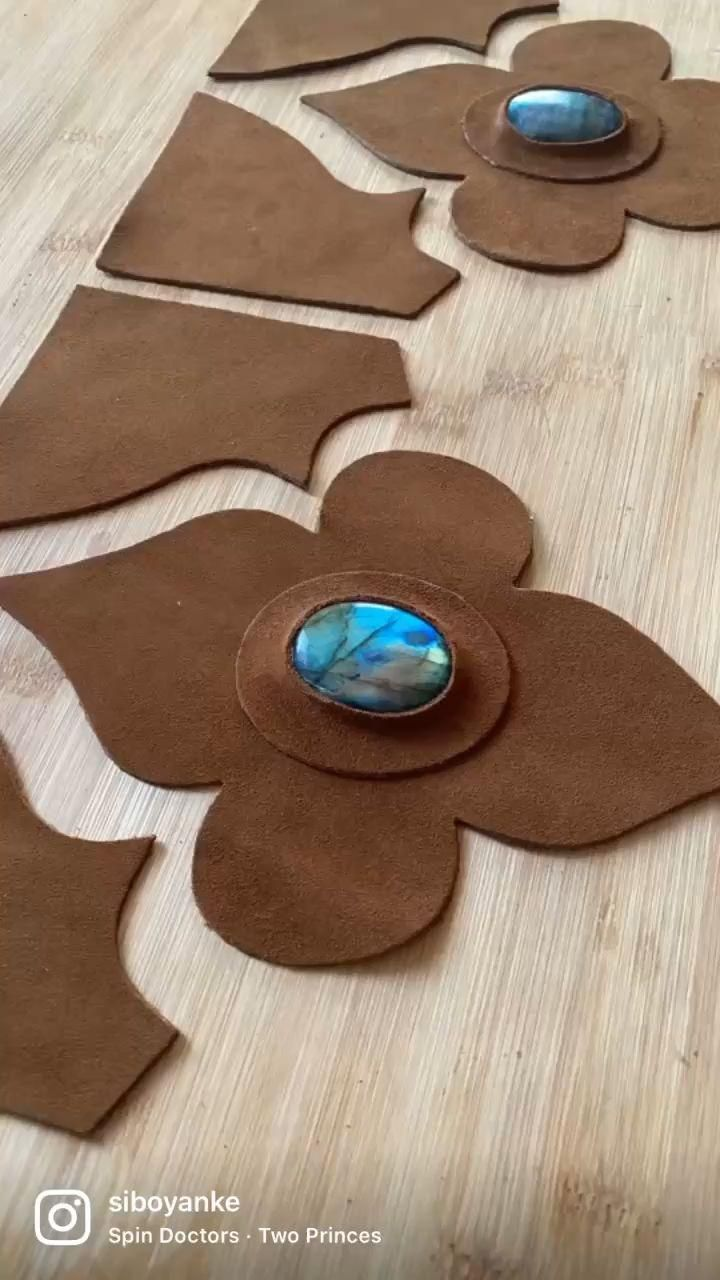cuero: (1, 4, 720, 1149)
